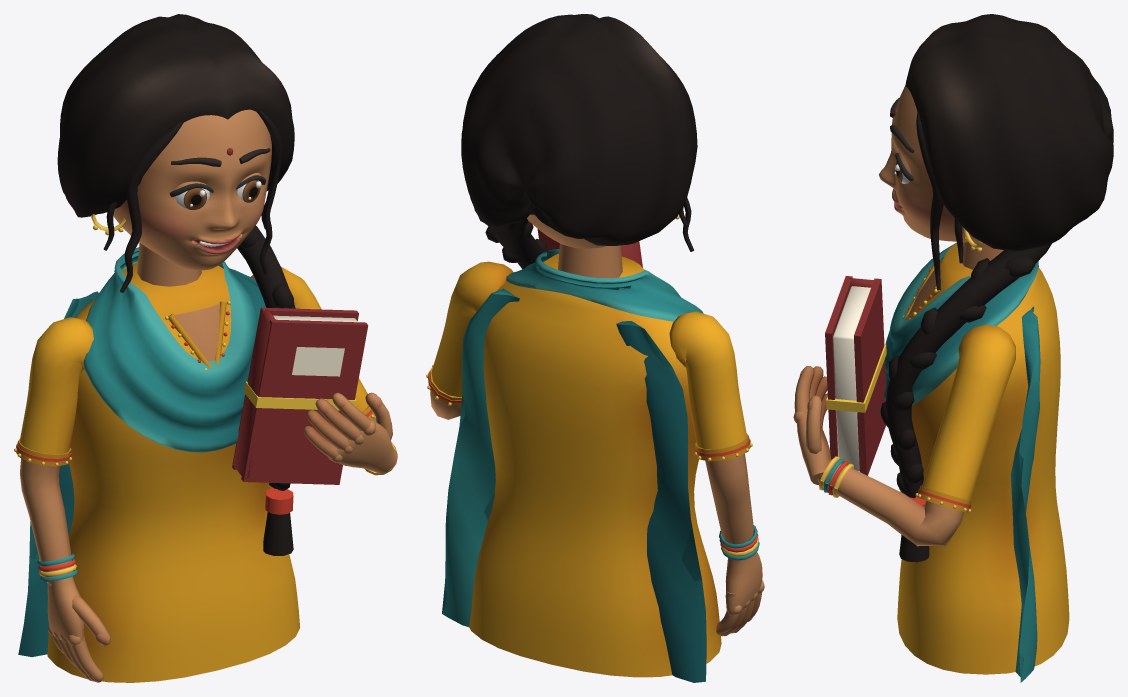
Rendered from rani_idle.glb.
The picture shows the model from 3 angles, left to right: view 1: azimuth 30°, elevation 25°; view 2: azimuth 150°, elevation 25°; view 3: azimuth 270°, elevation 25°; orthographic projection.
Visible parts, largest first — view 1: body, head, arm_l, arm_r; view 2: body, head, arm_r, arm_l; view 3: body, head, arm_l.
Part boxes in pixels (<box>): body: <box>18,225,300,682</box>; head: <box>57,14,294,292</box>; arm_l: <box>232,267,397,484</box>; arm_r: <box>14,317,110,682</box>; body: <box>442,211,721,682</box>; head: <box>461,14,697,251</box>; arm_r: <box>669,311,764,636</box>; arm_l: <box>426,229,642,419</box>; body: <box>880,242,1069,682</box>; head: <box>879,14,1113,290</box>; arm_l: <box>793,276,1015,546</box>.
Bounding box in the file's own units: 0.7663 × 1.31 × 0.6301.
Materials: 1 (1 with a texture image).
